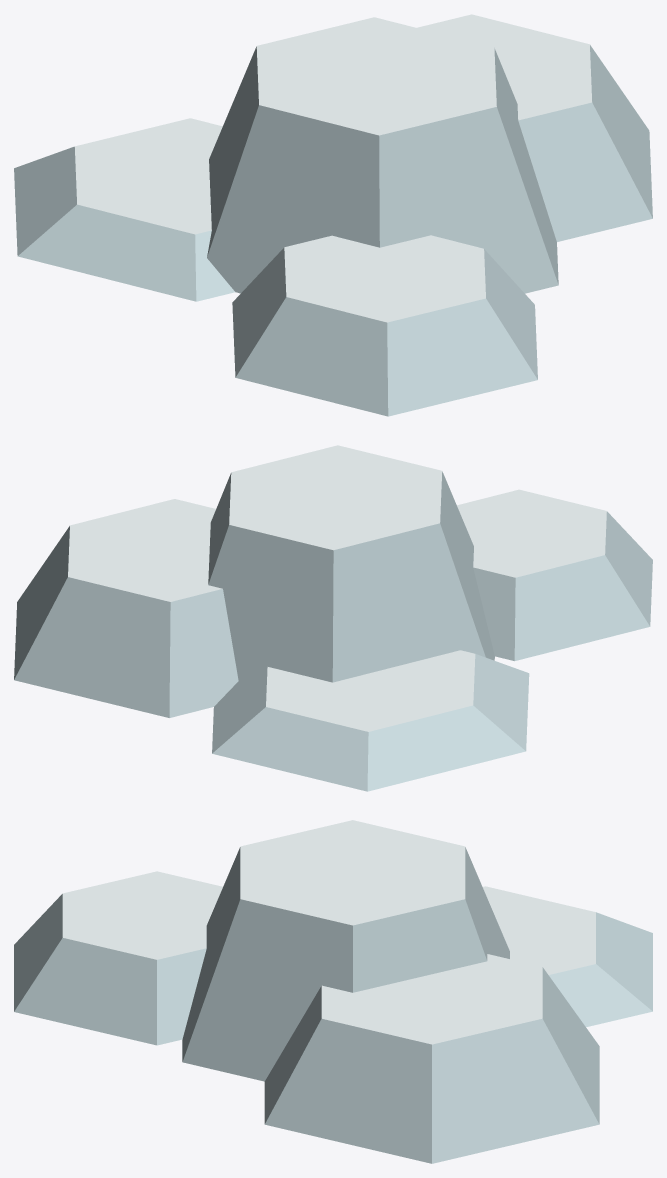
The model's file is snow_detail_rocks.glb.
3 views of the same model, one above another, from view 1: azimuth 30°, elevation 25°; view 2: azimuth 150°, elevation 25°; view 3: azimuth 270°, elevation 25° (orthographic). The views are drawn at different scales.
Visible parts, largest first — view 1: snow_detail_rocks; view 2: snow_detail_rocks; view 3: snow_detail_rocks.
Boxes of the visible parts, x1=… form: snow_detail_rocks: x1=14, y1=14, x2=652, y2=416; snow_detail_rocks: x1=14, y1=445, x2=652, y2=791; snow_detail_rocks: x1=14, y1=820, x2=652, y2=1163.
Size of the model in its own units: 0.6 by 0.155 by 0.6.
